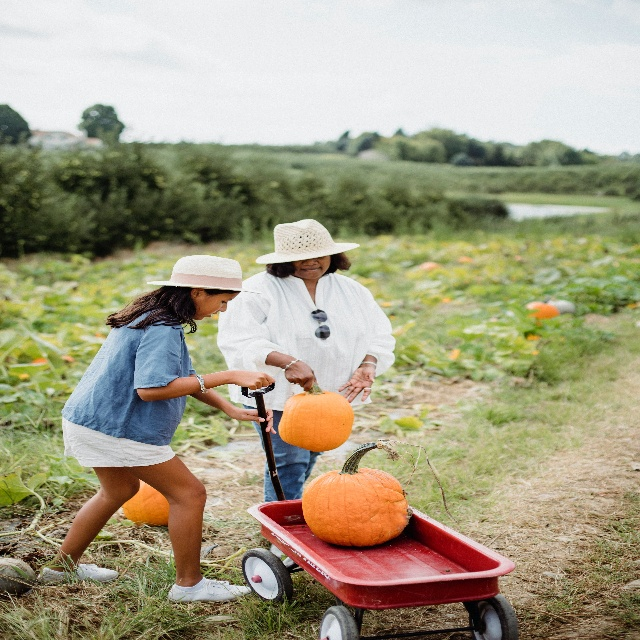Gafas: (311, 308, 330, 341)
Sin_guantes: (229, 405, 277, 435), (339, 366, 376, 401), (284, 356, 318, 392), (231, 369, 276, 390)
